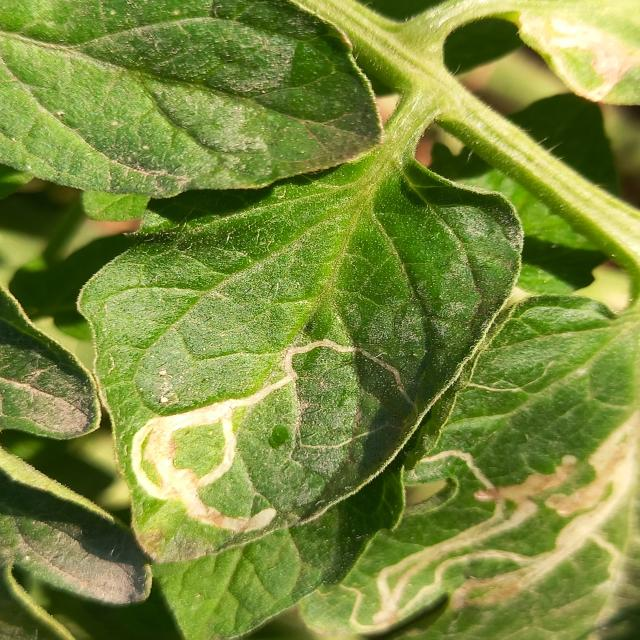Tuta absoluta: (332, 406, 586, 636), (121, 375, 332, 559), (279, 333, 419, 403)
